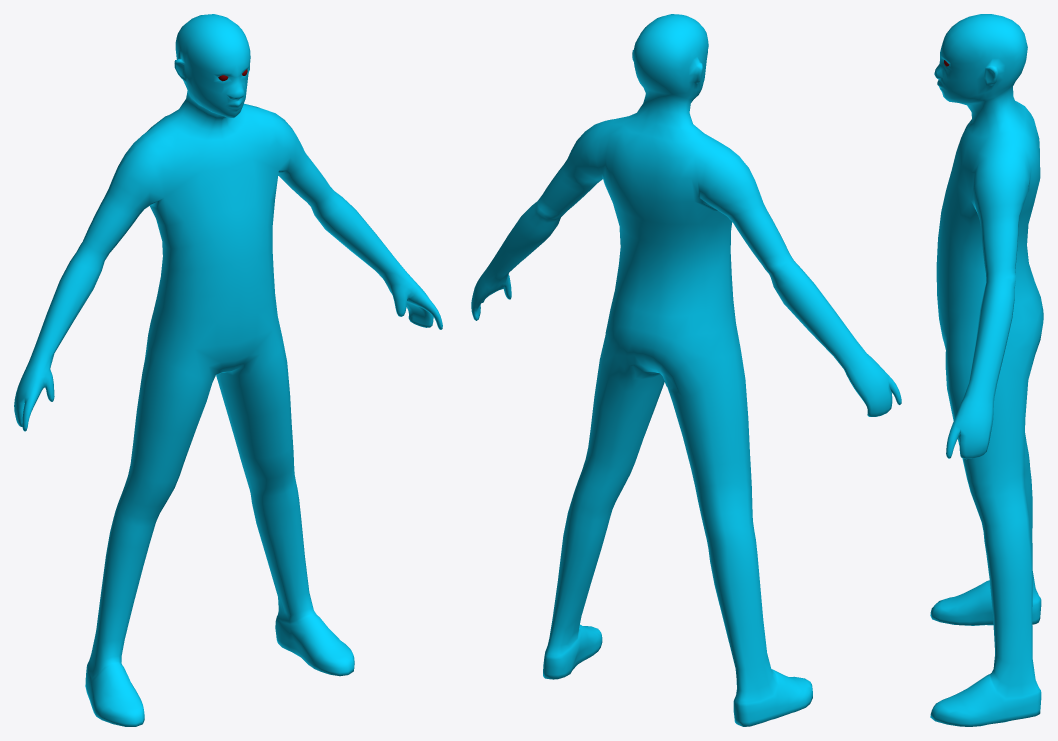
File: Personaje_Prueba_2.fbx
The picture shows the model from 3 angles, left to right: view 1: azimuth 30°, elevation 25°; view 2: azimuth 150°, elevation 25°; view 3: azimuth 270°, elevation 25°; orthographic projection. The views are drawn at different scales.
Visible parts, largest first — view 1: Cube; view 2: Cube; view 3: Cube.
Part boxes in pixels (x1,y1,x2,y2): Cube: (14,14,442,726); Cube: (471,14,901,726); Cube: (930,14,1043,726).
Bounding box in the file's own units: 1.21 × 1.82 × 0.2866.
